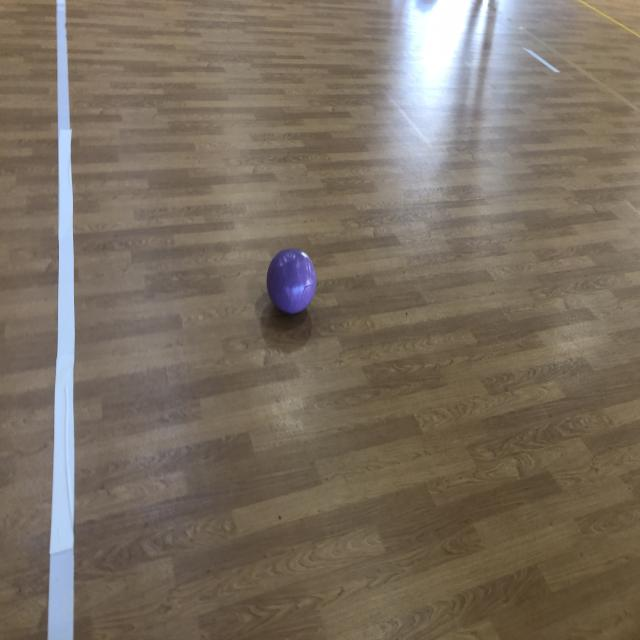purple_ball: (268, 248, 316, 313)
